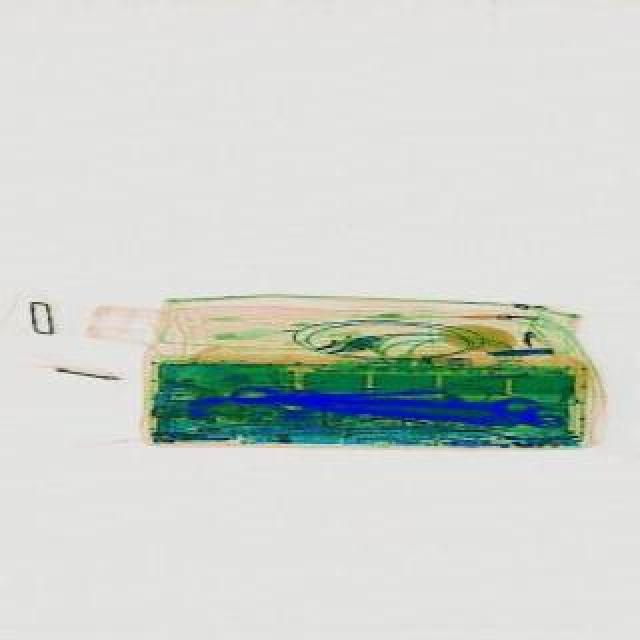scissors: (226, 376, 538, 424)
